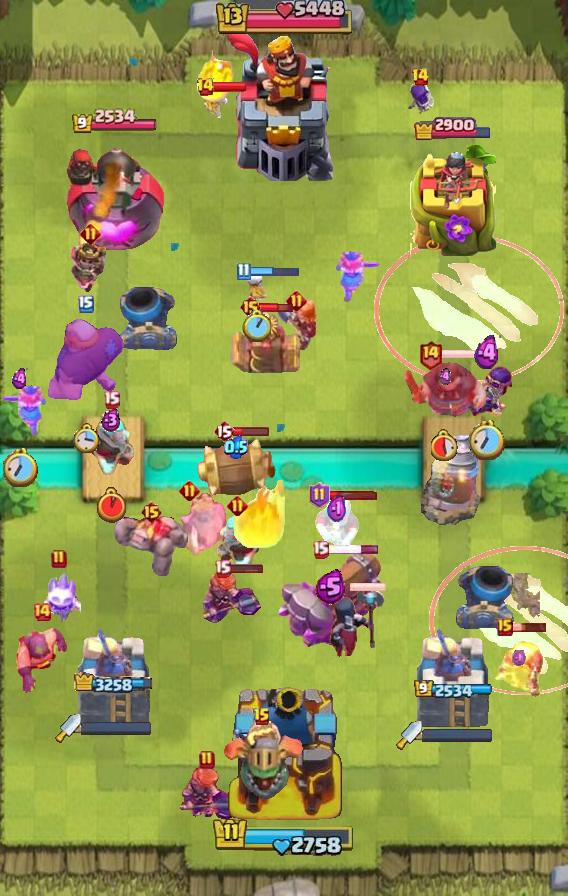bar: (248, 265, 300, 278), (327, 544, 380, 555), (328, 490, 378, 501), (259, 301, 294, 314), (511, 621, 548, 633), (350, 581, 387, 593), (440, 348, 477, 360), (228, 562, 264, 574), (212, 81, 248, 93), (233, 426, 270, 437)
bar-level: (418, 339, 443, 370), (140, 500, 163, 524), (239, 295, 262, 319), (309, 482, 330, 508), (213, 419, 235, 443), (227, 495, 248, 516), (179, 480, 200, 501), (286, 290, 307, 311), (80, 223, 101, 244), (32, 602, 52, 622), (196, 77, 215, 97), (411, 67, 430, 87), (253, 707, 271, 727), (214, 559, 231, 578), (312, 540, 329, 559), (103, 390, 120, 409), (199, 750, 215, 770), (51, 549, 67, 569), (497, 618, 513, 636), (78, 295, 94, 313), (236, 262, 251, 281)
barbarian-barrel: (194, 436, 278, 498)
bomber-evolution: (460, 364, 514, 420)
cannoneer-tower: (64, 138, 165, 256)
clock: (469, 420, 505, 460), (3, 448, 38, 487), (97, 487, 126, 523), (242, 310, 271, 342), (431, 429, 459, 461), (73, 423, 100, 453)
dagger-duchess-tower: (414, 623, 492, 731), (75, 623, 153, 731)
dagger-duchess-tower-bar: (422, 728, 494, 742), (81, 721, 153, 735)
dirt: (498, 573, 540, 618)
elixir: (315, 569, 346, 605), (474, 335, 501, 371), (327, 494, 347, 525), (224, 435, 248, 459), (101, 408, 121, 432), (12, 368, 28, 390), (512, 649, 527, 667), (439, 368, 451, 386)
executioner: (15, 625, 69, 695)
golemite: (114, 514, 188, 576)
ice-spirit-evolution: (37, 569, 81, 623)
ice-wizard: (212, 509, 262, 575), (88, 412, 134, 476), (313, 491, 361, 551)
king-tower: (223, 31, 345, 181), (223, 680, 345, 826)
king-tower-bar: (212, 816, 356, 858), (213, 0, 355, 38)
little-prince: (66, 239, 115, 301)
mortar: (454, 565, 514, 629), (119, 286, 179, 350)
night-witch: (328, 585, 388, 659)
queen-tower: (410, 145, 496, 256)
royal-ghost: (177, 492, 233, 558)
skeleton: (242, 270, 270, 304), (201, 88, 229, 122)
skeleton-evolution: (404, 81, 436, 119)
tesla: (230, 308, 300, 376)
tower-bar: (71, 108, 158, 135), (413, 115, 493, 140), (74, 672, 155, 696), (414, 680, 493, 700)
valkyrie: (0, 384, 48, 438), (334, 250, 382, 304), (273, 300, 319, 354)
valkyrie-evolution: (200, 568, 264, 626), (177, 764, 237, 822)
wizard: (492, 630, 546, 700)
